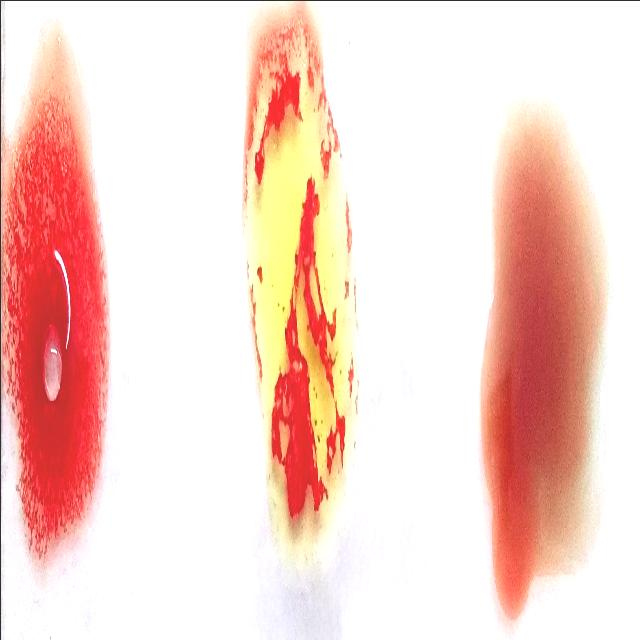B: (242, 1, 358, 580)
D: (5, 96, 109, 576)
